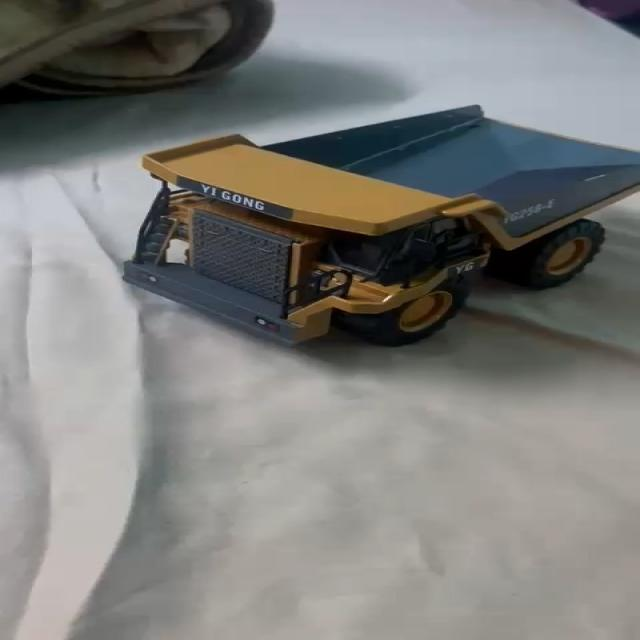dump_truck: (105, 103, 640, 340)
